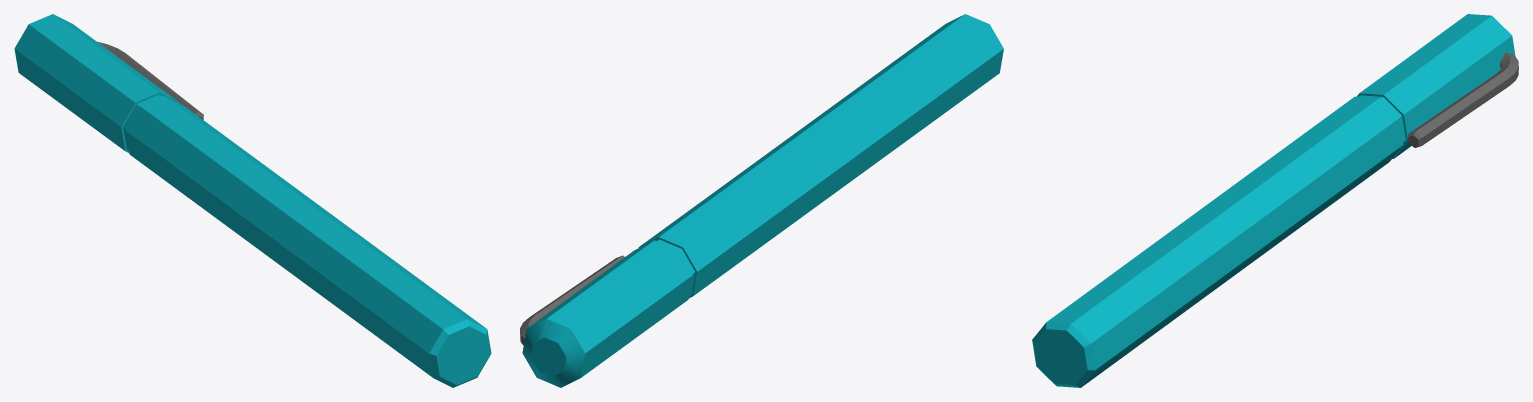
File: Lapiz08.fbx
3 renders of one model, left to right at view 1: azimuth 30°, elevation 25°; view 2: azimuth 150°, elevation 25°; view 3: azimuth 330°, elevation 25°, orthographic.
Visible parts, largest first — view 1: Lapiz08; view 2: Lapiz08; view 3: Lapiz08.
Part boxes in pixels (<box>): Lapiz08: <box>14,14,491,387</box>; Lapiz08: <box>520,14,1003,387</box>; Lapiz08: <box>1032,14,1518,387</box>.
Bounding box in the file's own units: 2.08 × 1.55 × 18.01.
